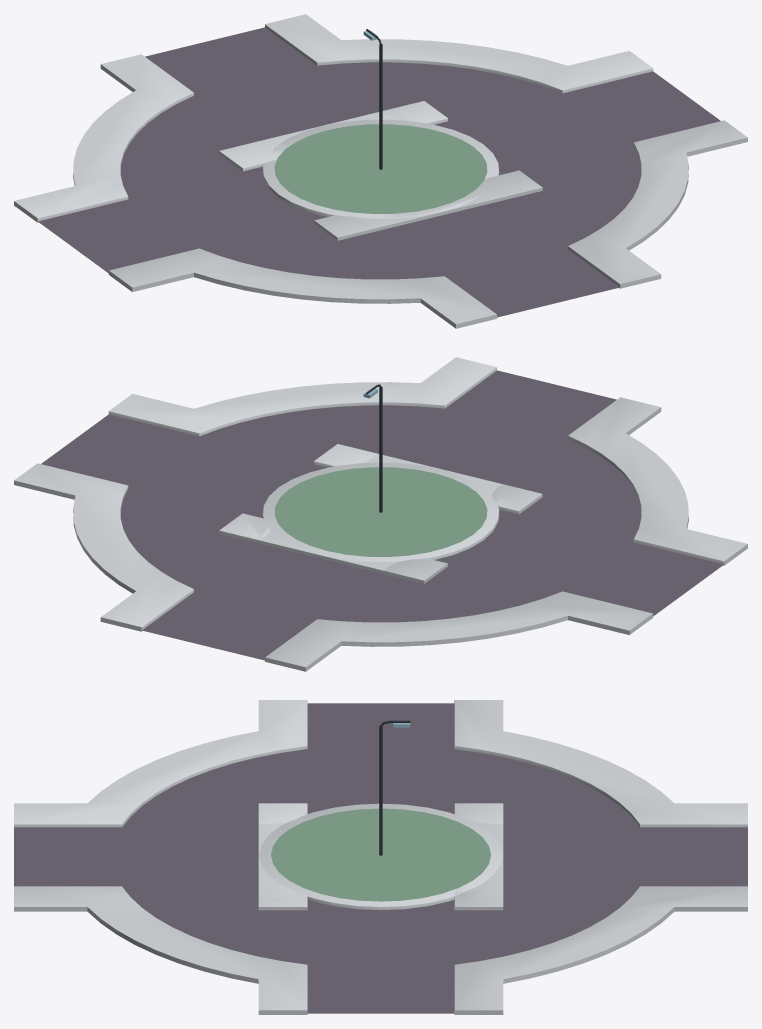
File: ENV_ROAD_KIT_A_v001.glb
The picture shows the model from 3 angles, top to bottom: view 1: azimuth 30°, elevation 25°; view 2: azimuth 150°, elevation 25°; view 3: azimuth 270°, elevation 25°; orthographic projection. The views are drawn at different scales.
Parts seen in each view (by area): view 1: ENV_ROAD_KIT_A_ROUNDABOUT, ENV_ROAD_KIT_A_STRAIGHT, ENV_ROAD_KIT_A_CROSS, ENV_ROAD_KIT_A_LAMP_POLE; view 2: ENV_ROAD_KIT_A_ROUNDABOUT, ENV_ROAD_KIT_A_CROSS, ENV_ROAD_KIT_A_STRAIGHT, ENV_ROAD_KIT_A_LAMP_POLE; view 3: ENV_ROAD_KIT_A_ROUNDABOUT, ENV_ROAD_KIT_A_STRAIGHT, ENV_ROAD_KIT_A_CROSS, ENV_ROAD_KIT_A_LAMP_POLE.
Part boxes in pixels (left/top/right/bottom): ENV_ROAD_KIT_A_ROUNDABOUT: left=14, top=14, right=747, bottom=328; ENV_ROAD_KIT_A_STRAIGHT: left=220, top=101, right=542, bottom=240; ENV_ROAD_KIT_A_CROSS: left=219, top=101, right=542, bottom=240; ENV_ROAD_KIT_A_LAMP_POLE: left=366, top=29, right=382, bottom=169; ENV_ROAD_KIT_A_ROUNDABOUT: left=14, top=357, right=747, bottom=671; ENV_ROAD_KIT_A_CROSS: left=219, top=444, right=542, bottom=583; ENV_ROAD_KIT_A_STRAIGHT: left=219, top=444, right=539, bottom=582; ENV_ROAD_KIT_A_LAMP_POLE: left=366, top=384, right=382, bottom=512; ENV_ROAD_KIT_A_ROUNDABOUT: left=14, top=700, right=747, bottom=1014; ENV_ROAD_KIT_A_STRAIGHT: left=258, top=803, right=503, bottom=906; ENV_ROAD_KIT_A_CROSS: left=258, top=803, right=503, bottom=910; ENV_ROAD_KIT_A_LAMP_POLE: left=379, top=720, right=410, bottom=855.
Bounding box in the file's own units: 30 × 6.26 × 30.
